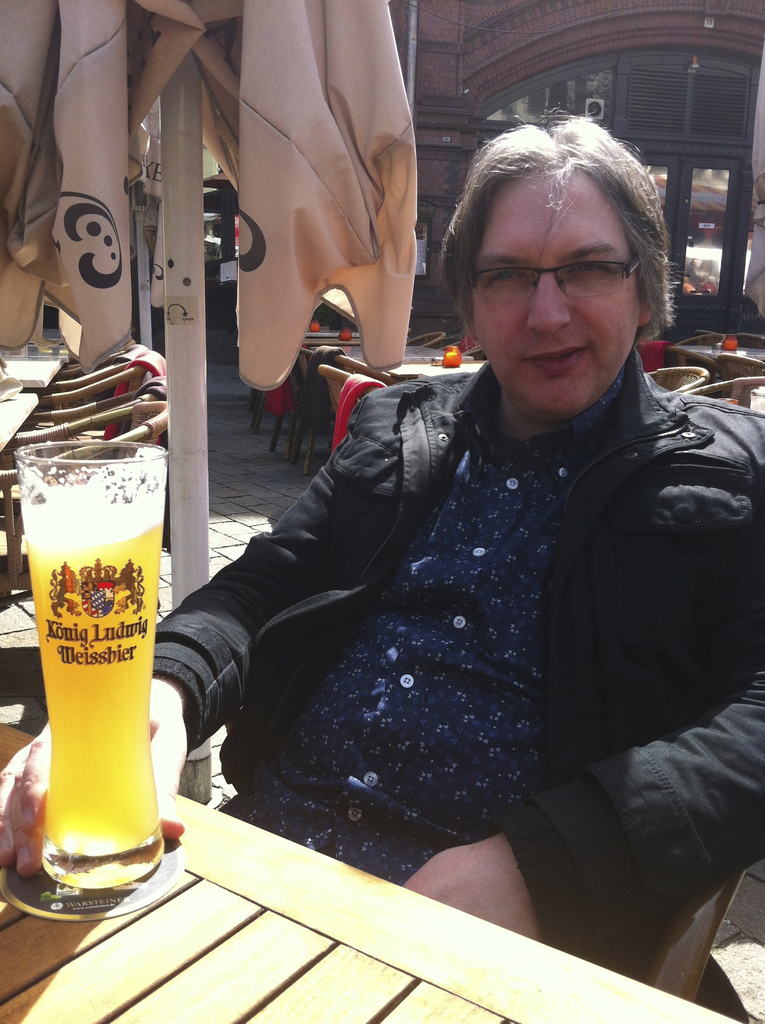Beer: (30, 494, 152, 858)
